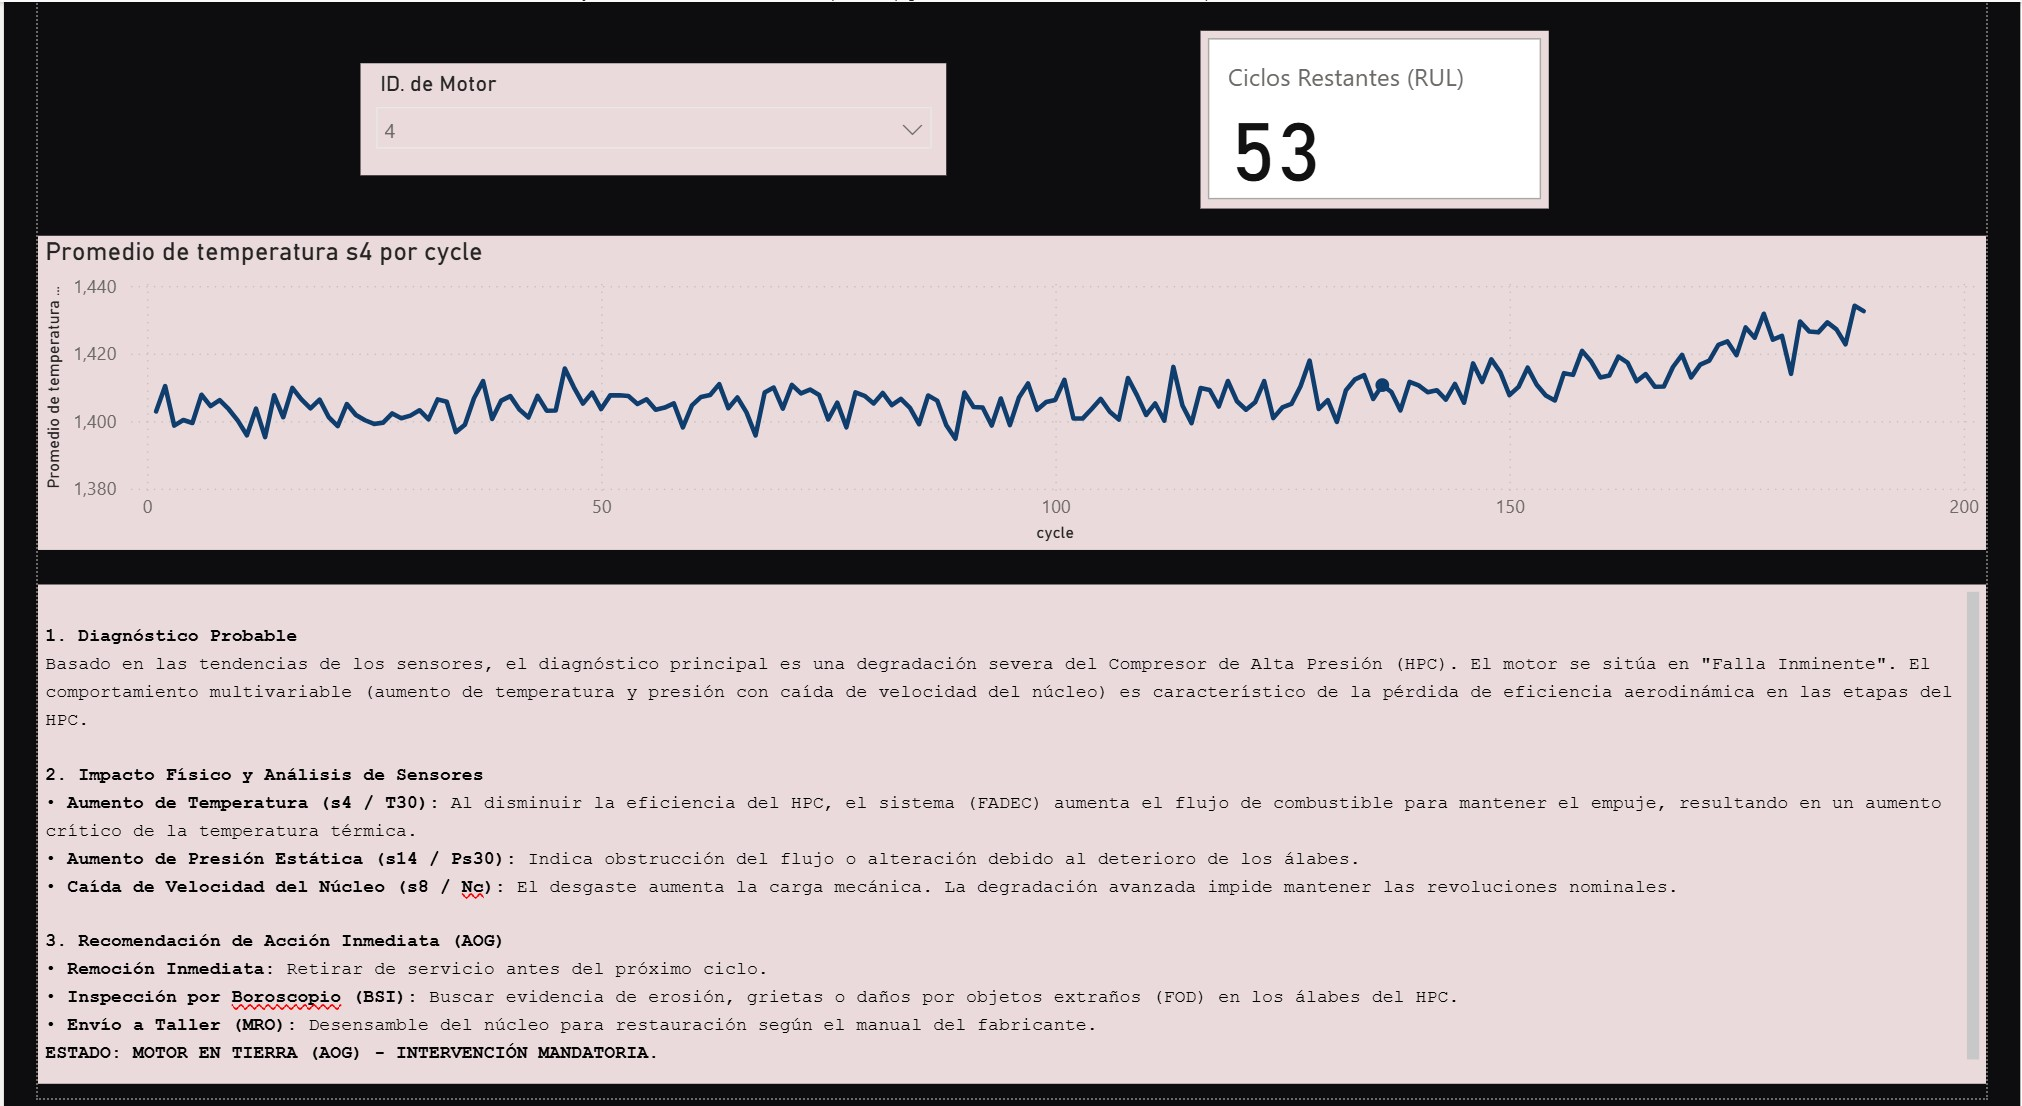

Layout of this report page (visuals, bound fields, positions):
{"tool":"powerbi","page":{"name":"Página 1","canvas":[1280,720],"ordinal":0},"visuals":[{"type":"cardVisual","fields":{"Data":["Min(public v_engine_health.rul)"]},"box":[763.7,18.9,229.1,116.6],"z":0},{"type":"lineChart","fields":{"Category":["public v_engine_health.cycle"],"Y":["Avg(public v_engine_health.s4_temp_hpc)"]},"box":[0,153.6,1280.2,206.1],"z":1000},{"type":"textbox","box":[0,382.7,1280.2,327.6],"z":2000},{"type":"slicer","fields":{"Values":["public v_engine_health.engine_id"]},"box":[211.9,40.2,385.1,73.9],"z":3000}]}

Visuals, with their boxes in screenshot pixels (x1, y1, x2, y2), scaled from the page's 1280x720 canvas onto the 2022x1106 screenshot:
cardVisual - Min(public v_engine_health.rul): (x1=1206, y1=29, x2=1568, y2=208)
lineChart - public v_engine_health.cycle x Avg(public v_engine_health.s4_temp_hpc): (x1=0, y1=236, x2=2021, y2=553)
textbox: (x1=0, y1=588, x2=2021, y2=1091)
slicer - public v_engine_health.engine_id: (x1=335, y1=62, x2=943, y2=175)
